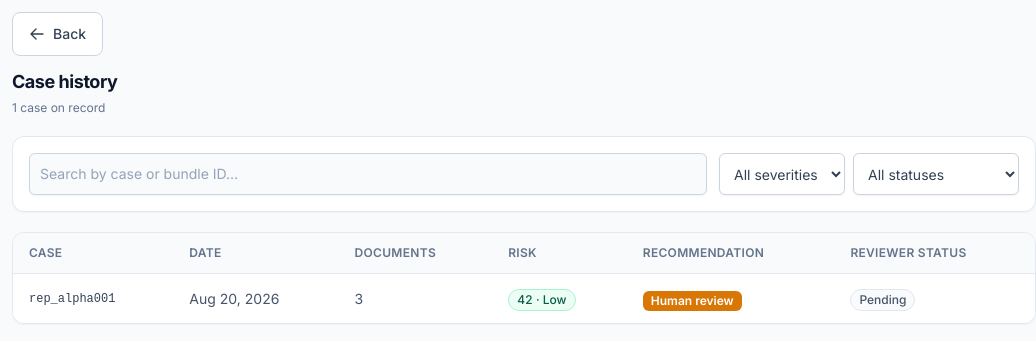
CaseHistory › shows a no-matches message when filters exclude every case
This screenshot has width=1036, height=341.
Expected: the button "rep_alpha001" is shown, [29,291,115,307]
Select "Critical" in the 1st dropdown named "filter by risk severity" at (782, 174), box [719,153,845,195]
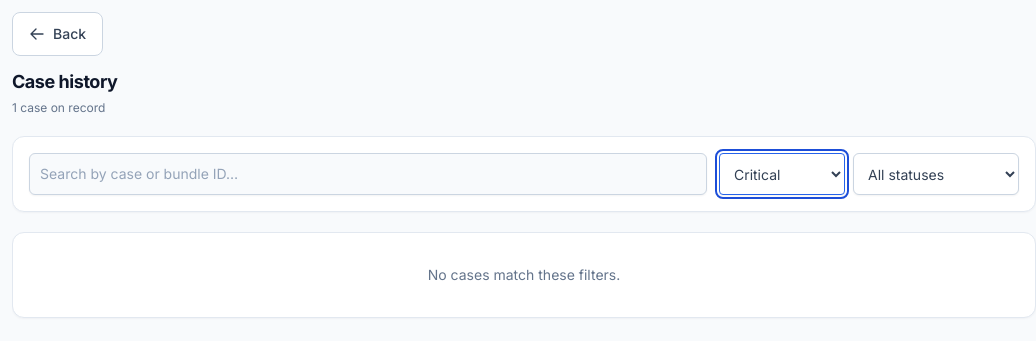
Now the text "No cases match these filters." is shown, box [12,232,1035,318]
